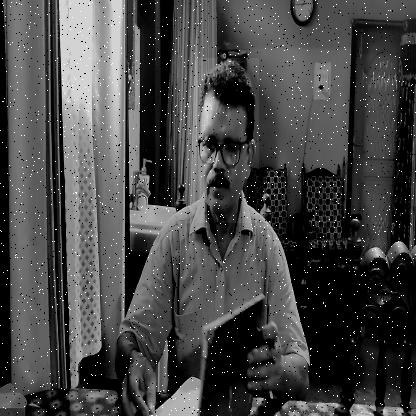Normal: (196, 58, 259, 223)
